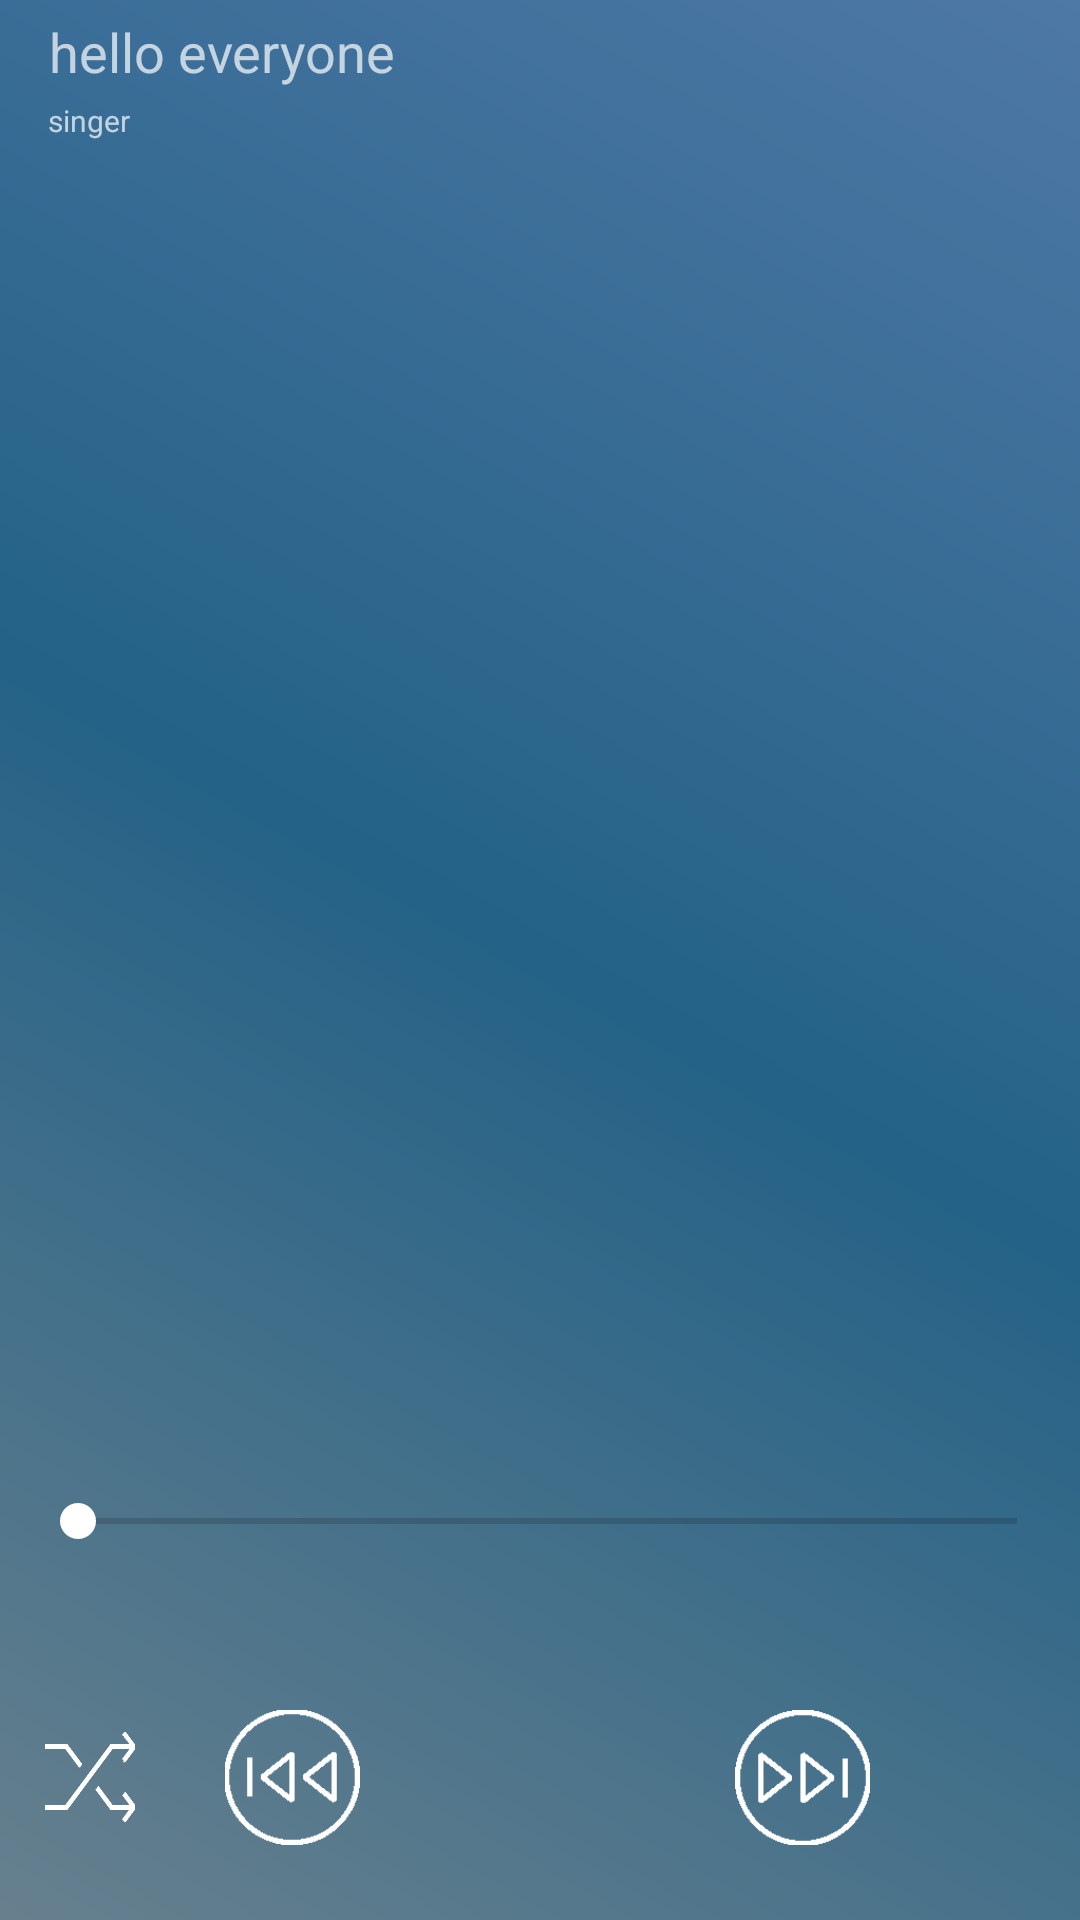

Point at icon controls on the screen. Image size 1080px×1920px, points as (x,y).
next: (802,1777)
pre: (292,1777)
random: (90,1777)
